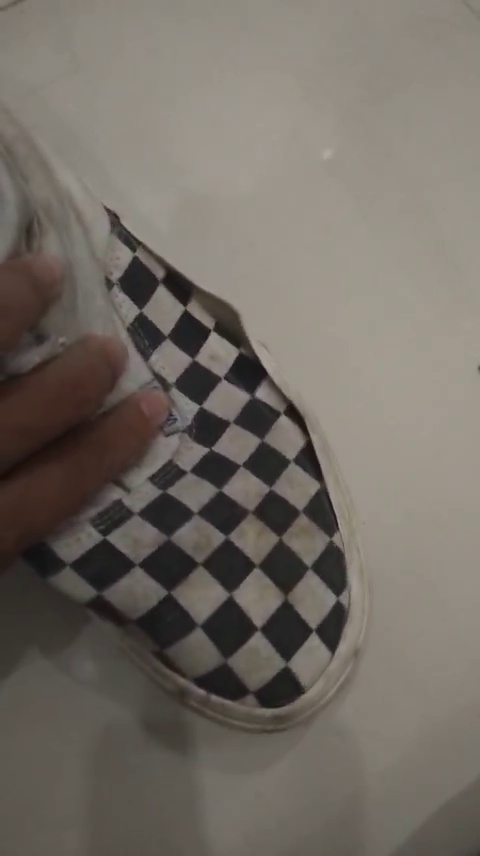bonding: (147, 249, 263, 362), (253, 357, 326, 469)
